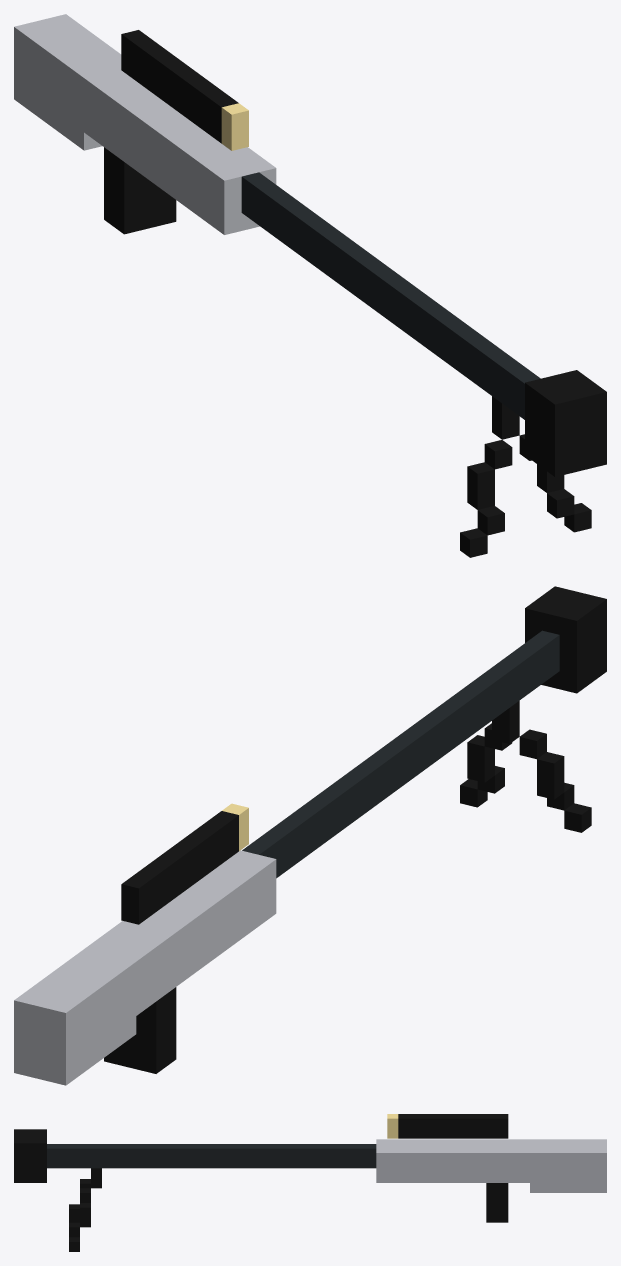
File: vox_sniper_star.glb
3 views of the same model, one above another, from view 1: azimuth 30°, elevation 25°; view 2: azimuth 150°, elevation 25°; view 3: azimuth 270°, elevation 25° (orthographic). The views are drawn at different scales.
Parts seen in each view (by area): view 1: vox_sniper_star; view 2: vox_sniper_star; view 3: vox_sniper_star.
Part boxes in pixels (x1,y1,x2,y2): vox_sniper_star: [14, 14, 606, 557]; vox_sniper_star: [14, 586, 606, 1085]; vox_sniper_star: [14, 1114, 606, 1251].
Bounding box in the file's own units: 0.14 × 0.2399 × 1.08.
